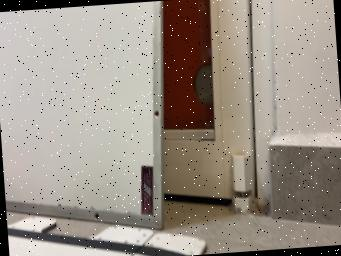street: (7, 228, 184, 256), (7, 228, 184, 256), (7, 228, 184, 256), (7, 228, 184, 256), (7, 228, 184, 256), (7, 228, 184, 256)
